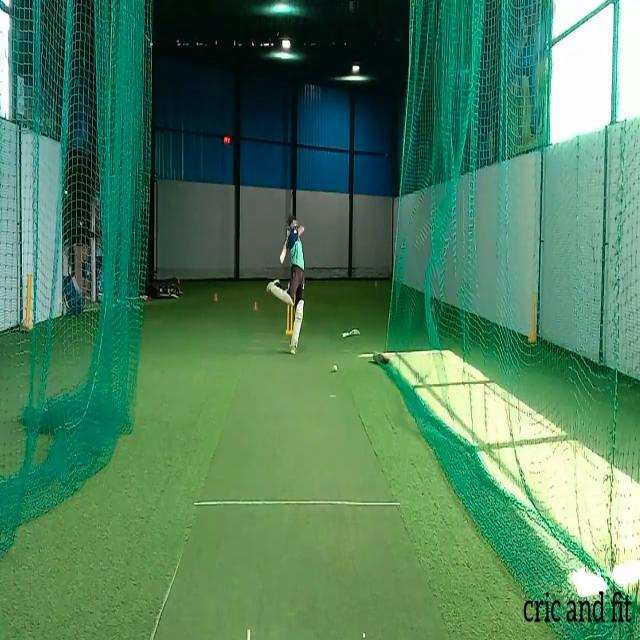batsman: (266, 212, 306, 358)
